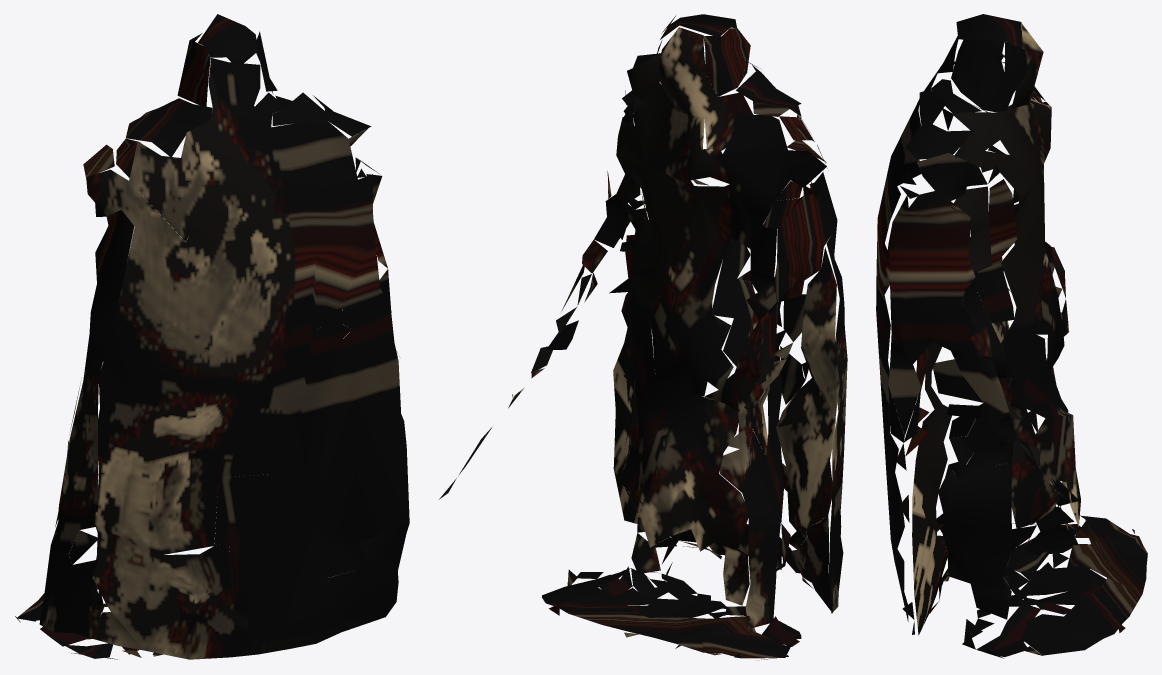
3 renders of one model, left to right at view 1: azimuth 30°, elevation 25°; view 2: azimuth 150°, elevation 25°; view 3: azimuth 270°, elevation 25°, orthographic. The views are drawn at different scales.
Visible parts, largest first — view 1: body.002; view 2: body.002; view 3: body.002.
Boxes of the visible parts, x1,y1,x2,y2 form: body.002: [15, 14, 409, 659]; body.002: [439, 14, 847, 660]; body.002: [876, 14, 1147, 658].
Bounding box in the file's own units: 1.24 × 2 × 0.8288.
1 material, 1 textured.
